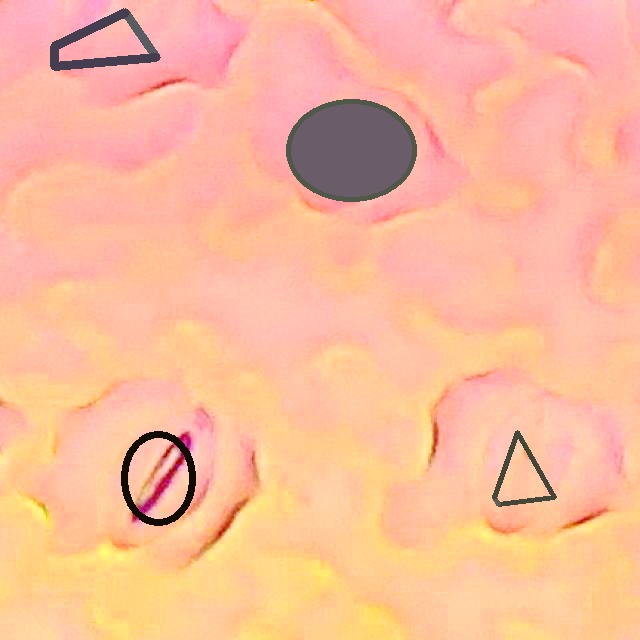close: (286, 98, 416, 201), (50, 9, 160, 70), (493, 430, 556, 505)
open: (120, 431, 196, 526)
